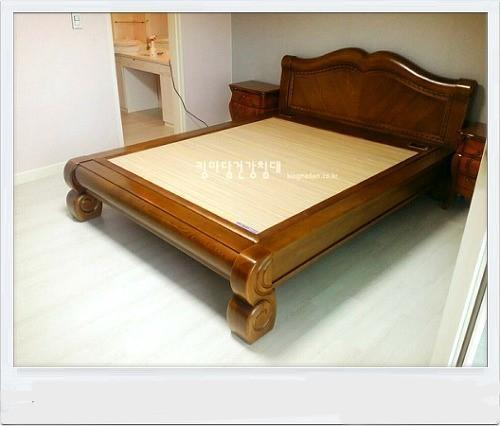Bed-Mattress: (47, 43, 470, 334)
